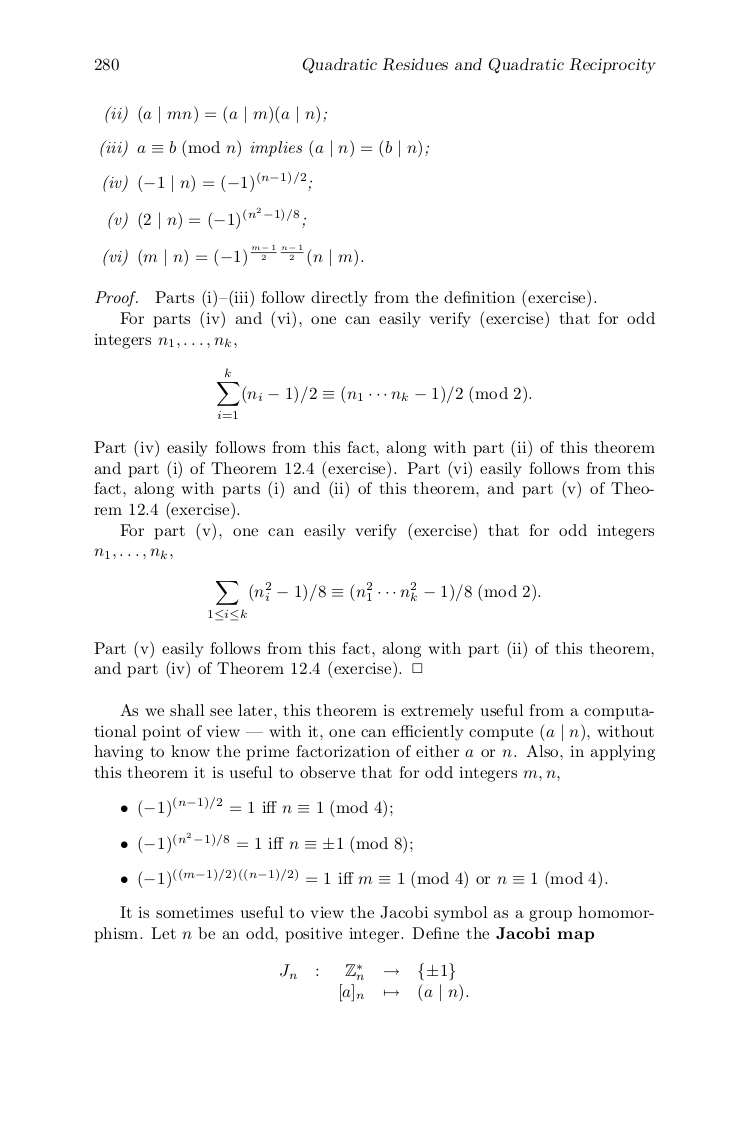formula: (217, 368, 531, 418), (208, 581, 540, 620), (121, 868, 607, 889), (121, 831, 412, 854), (100, 139, 429, 158), (103, 243, 363, 267), (121, 796, 392, 818), (108, 206, 306, 230), (103, 171, 312, 193), (105, 105, 327, 124), (280, 962, 454, 981), (340, 982, 468, 1002)
